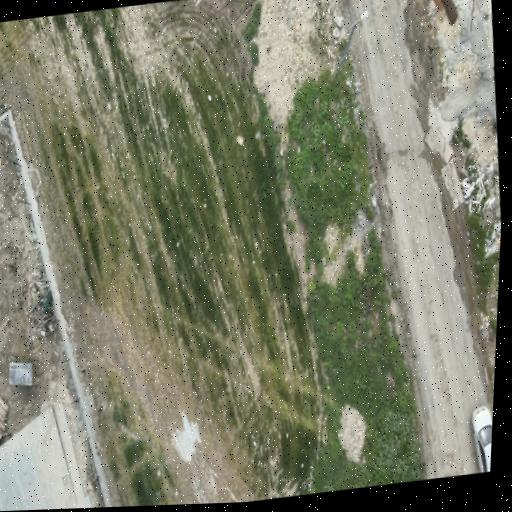car: (472, 406, 492, 471)
person: (492, 66, 495, 78)
